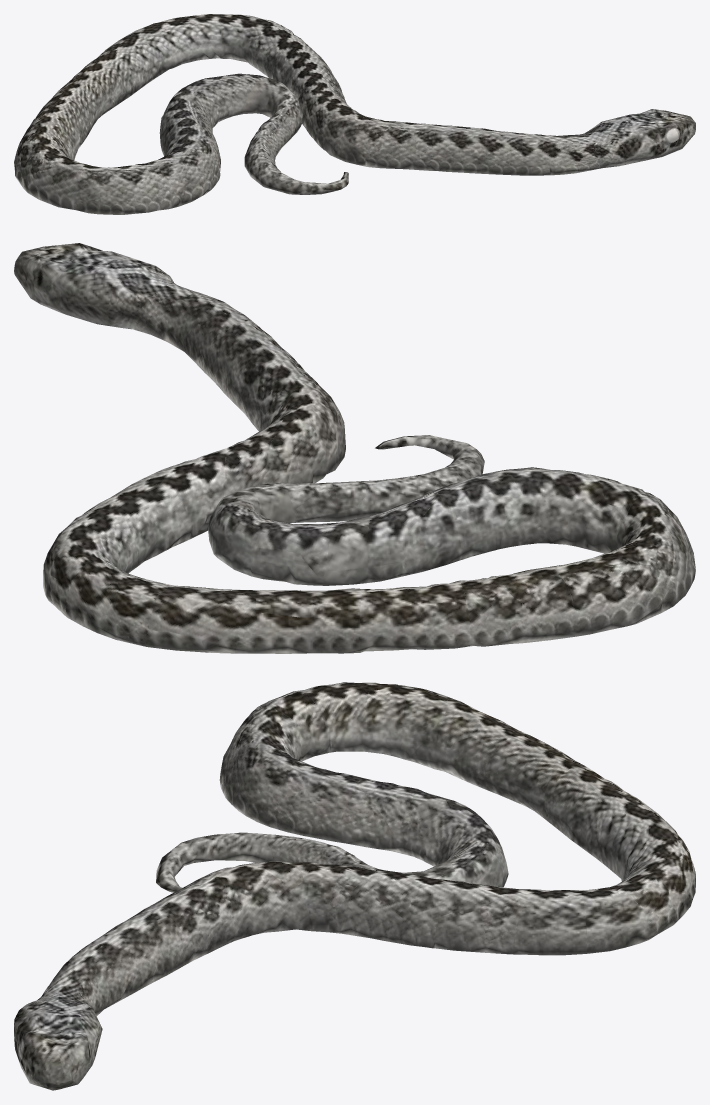
File: vipera.glb
The picture shows the model from 3 angles, top to bottom: view 1: azimuth 30°, elevation 25°; view 2: azimuth 150°, elevation 25°; view 3: azimuth 270°, elevation 25°; orthographic projection. The views are drawn at different scales.
Bounding box in the file's own units: 1.9 × 0.1216 × 1.44.
1 material, 1 textured.
